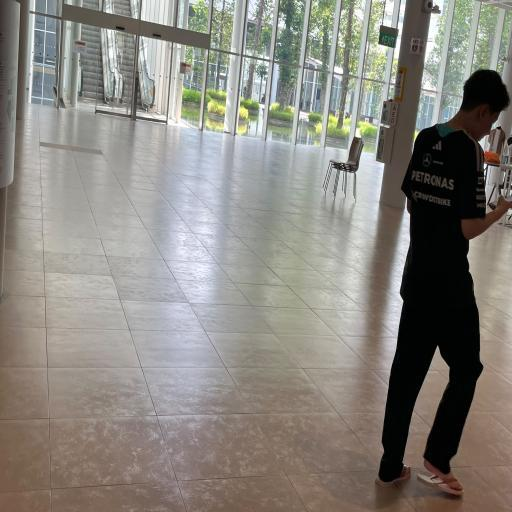person_right: (375, 67, 512, 494)
